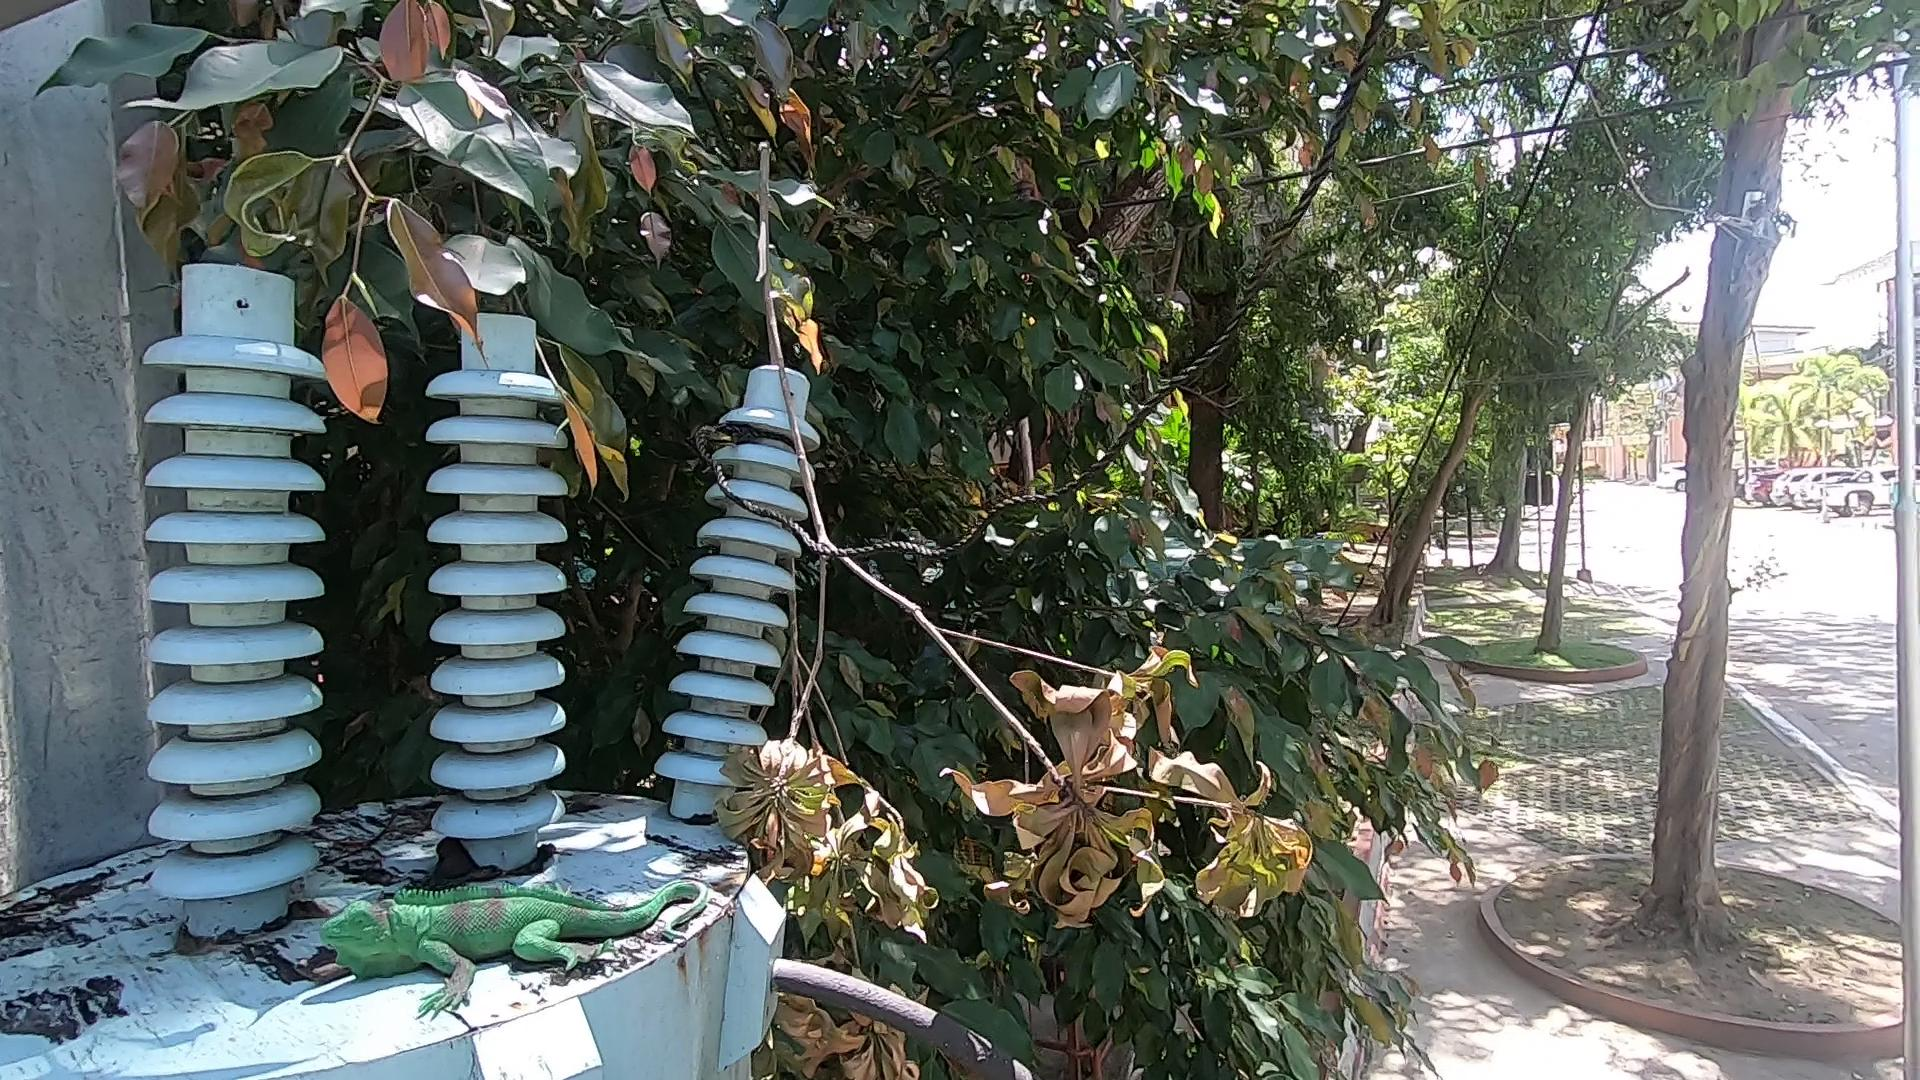branch with leaves: (729, 131, 1296, 1080)
leaf: (411, 839, 481, 889), (513, 843, 566, 876), (301, 963, 347, 989)
tree branch: (339, 793, 404, 865)
